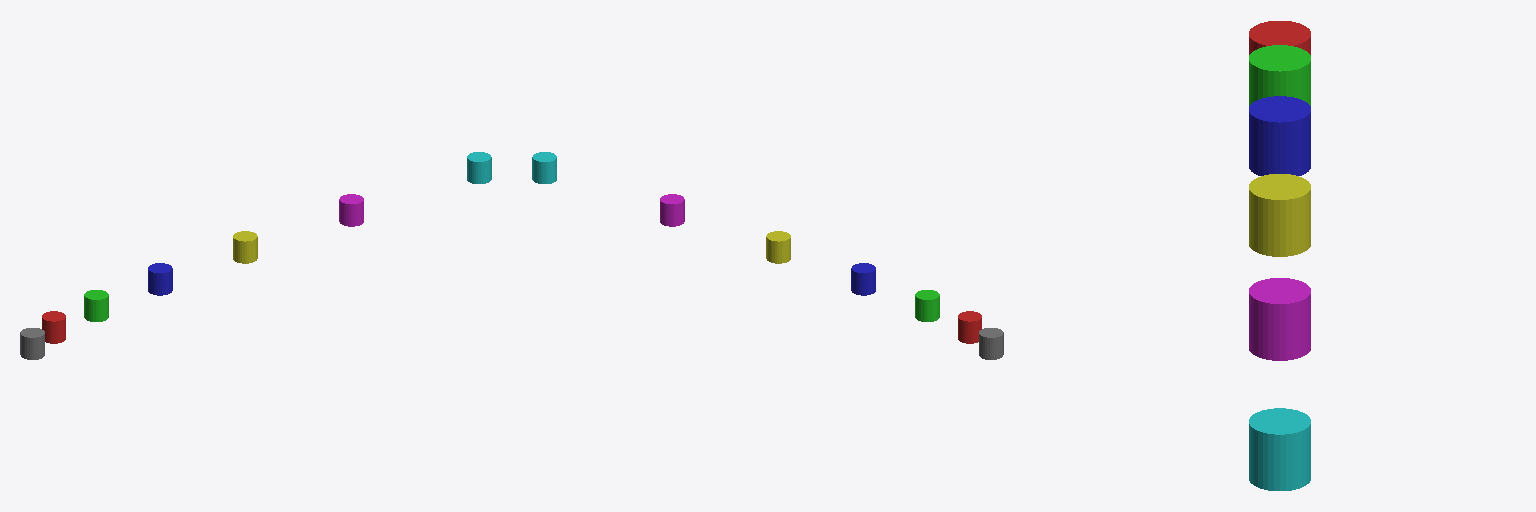
robot.urdf — so_100_arm:
<robot name="so_100_arm">
  <link name="base_link">
    <inertial>
      <origin xyz="0 0 0" rpy="0 0 0"/>
      <mass value="1"/>
      <inertia ixx="0.1" ixy="0" ixz="0" iyy="0.1" iyz="0" izz="0.1"/>
    </inertial>
    <visual>
      <origin xyz="0 0 0" rpy="0 0 0"/>
      <geometry>
        <cylinder radius="0.05" length="0.1"/>
      </geometry>
      <material>
        <color rgba="0.5 0.5 0.5 1"/> <!-- Grey for base -->
      </material>
    </visual>
    <collision>
      <origin xyz="0 0 0" rpy="0 0 0"/>
      <geometry>
        <cylinder radius="0.05" length="0.1"/>
      </geometry>
    </collision>
  </link>

  <link name="link_1">
    <inertial>
      <origin xyz="0 0 0" rpy="0 0 0"/>
      <mass value="1"/>
      <inertia ixx="0.1" ixy="0" ixz="0" iyy="0.1" iyz="0" izz="0.1"/>
    </inertial>
    <visual>
      <origin xyz="0 0 0" rpy="0 0 0"/>
      <geometry>
        <cylinder radius="0.05" length="0.1"/>
      </geometry>
      <material>
        <color rgba="0.8 0.2 0.2 1"/> <!-- Red for link_1 -->
      </material>
    </visual>
    <collision>
      <origin xyz="0 0 0" rpy="0 0 0"/>
      <geometry>
        <cylinder radius="0.05" length="0.1"/>
      </geometry>
    </collision>
  </link>
  <joint name="joint_0" type="revolute">
    <origin xyz="0.1 0 0.05" rpy="0 0 0"/>
    <parent link="base_link"/>
    <child link="link_1"/>
    <axis xyz="0 0 1"/>
    <limit lower="-1.57" upper="1.57" effort="10" velocity="1"/>
  </joint>

  <link name="link_2">
    <inertial>
      <origin xyz="0 0 0" rpy="0 0 0"/>
      <mass value="1"/>
      <inertia ixx="0.1" ixy="0" ixz="0" iyy="0.1" iyz="0" izz="0.1"/>
    </inertial>
    <visual>
      <origin xyz="0 0 0" rpy="0 0 0"/>
      <geometry>
        <cylinder radius="0.05" length="0.1"/>
      </geometry>
      <material>
        <color rgba="0.2 0.8 0.2 1"/> <!-- Green for link_2 -->
      </material>
    </visual>
    <collision>
      <origin xyz="0 0 0" rpy="0 0 0"/>
      <geometry>
        <cylinder radius="0.05" length="0.1"/>
      </geometry>
    </collision>
  </link>
  <joint name="joint_1" type="revolute">
    <origin xyz="0.2 0 0.05" rpy="0 0 0"/>
    <parent link="link_1"/>
    <child link="link_2"/>
    <axis xyz="0 0 1"/>
    <limit lower="-1.57" upper="1.57" effort="10" velocity="1"/>
  </joint>

  <link name="link_3">
    <inertial>
      <origin xyz="0 0 0" rpy="0 0 0"/>
      <mass value="1"/>
      <inertia ixx="0.1" ixy="0" ixz="0" iyy="0.1" iyz="0" izz="0.1"/>
    </inertial>
    <visual>
      <origin xyz="0 0 0" rpy="0 0 0"/>
      <geometry>
        <cylinder radius="0.05" length="0.1"/>
      </geometry>
      <material>
        <color rgba="0.2 0.2 0.8 1"/> <!-- Blue for link_3 -->
      </material>
    </visual>
    <collision>
      <origin xyz="0 0 0" rpy="0 0 0"/>
      <geometry>
        <cylinder radius="0.05" length="0.1"/>
      </geometry>
    </collision>
  </link>
  <joint name="joint_2" type="revolute">
    <origin xyz="0.3 0 0.05" rpy="0 0 0"/>
    <parent link="link_2"/>
    <child link="link_3"/>
    <axis xyz="0 0 1"/>
    <limit lower="-1.57" upper="1.57" effort="10" velocity="1"/>
  </joint>

  <link name="link_4">
    <inertial>
      <origin xyz="0 0 0" rpy="0 0 0"/>
      <mass value="1"/>
      <inertia ixx="0.1" ixy="0" ixz="0" iyy="0.1" iyz="0" izz="0.1"/>
    </inertial>
    <visual>
      <origin xyz="0 0 0" rpy="0 0 0"/>
      <geometry>
        <cylinder radius="0.05" length="0.1"/>
      </geometry>
      <material>
        <color rgba="0.8 0.8 0.2 1"/> <!-- Yellow for link_4 -->
      </material>
    </visual>
    <collision>
      <origin xyz="0 0 0" rpy="0 0 0"/>
      <geometry>
        <cylinder radius="0.05" length="0.1"/>
      </geometry>
    </collision>
  </link>
  <joint name="joint_3" type="revolute">
    <origin xyz="0.4 0 0.05" rpy="0 0 0"/>
    <parent link="link_3"/>
    <child link="link_4"/>
    <axis xyz="0 0 1"/>
    <limit lower="-1.57" upper="1.57" effort="10" velocity="1"/>
  </joint>

  <link name="link_5">
    <inertial>
      <origin xyz="0 0 0" rpy="0 0 0"/>
      <mass value="1"/>
      <inertia ixx="0.1" ixy="0" ixz="0" iyy="0.1" iyz="0" izz="0.1"/>
    </inertial>
    <visual>
      <origin xyz="0 0 0" rpy="0 0 0"/>
      <geometry>
        <cylinder radius="0.05" length="0.1"/>
      </geometry>
      <material>
        <color rgba="0.8 0.2 0.8 1"/> <!-- Purple for link_5 -->
      </material>
    </visual>
    <collision>
      <origin xyz="0 0 0" rpy="0 0 0"/>
      <geometry>
        <cylinder radius="0.05" length="0.1"/>
      </geometry>
    </collision>
  </link>
  <joint name="joint_4" type="revolute">
    <origin xyz="0.5 0 0.05" rpy="0 0 0"/>
    <parent link="link_4"/>
    <child link="link_5"/>
    <axis xyz="0 0 1"/>
    <limit lower="-1.57" upper="1.57" effort="10" velocity="1"/>
  </joint>

  <link name="link_6">
    <inertial>
      <origin xyz="0 0 0" rpy="0 0 0"/>
      <mass value="1"/>
      <inertia ixx="0.1" ixy="0" ixz="0" iyy="0.1" iyz="0" izz="0.1"/>
    </inertial>
    <visual>
      <origin xyz="0 0 0" rpy="0 0 0"/>
      <geometry>
        <cylinder radius="0.05" length="0.1"/>
      </geometry>
      <material>
        <color rgba="0.2 0.8 0.8 1"/> <!-- Cyan for link_6 -->
      </material>
    </visual>
    <collision>
      <origin xyz="0 0 0" rpy="0 0 0"/>
      <geometry>
        <cylinder radius="0.05" length="0.1"/>
      </geometry>
    </collision>
  </link>
  <joint name="joint_5" type="revolute">
    <origin xyz="0.6 0 0.05" rpy="0 0 0"/>
    <parent link="link_5"/>
    <child link="link_6"/>
    <axis xyz="0 0 1"/>
    <limit lower="-1.57" upper="1.57" effort="10" velocity="1"/>
  </joint>
</robot>

--- Facts derived from the render (not from the file) ---
3 views of the same robot in one strip: view 1: azimuth 30°, elevation 25°; view 2: azimuth 150°, elevation 25°; view 3: azimuth 270°, elevation 25° (orthographic).
Model so_100_arm with 7 links and 6 joints (6 revolute), rooted at base_link, posed all joints at 0.
Links seen in each view (by area): view 1: link_4, link_5, link_3, base_link, link_2, link_6, link_1; view 2: link_4, link_5, link_3, base_link, link_2, link_6, link_1; view 3: link_4, link_6, link_5, link_3, link_2, link_1.
Link boxes in pixels (box(x1,y1,x2,y2)): link_4: box(233, 231, 257, 263); link_5: box(339, 194, 363, 226); link_3: box(148, 263, 172, 295); base_link: box(20, 328, 44, 359); link_2: box(84, 290, 108, 321); link_6: box(467, 152, 491, 183); link_1: box(42, 311, 65, 343); link_4: box(766, 231, 790, 263); link_5: box(660, 194, 684, 226); link_3: box(851, 263, 875, 295); base_link: box(979, 328, 1003, 359); link_2: box(915, 290, 939, 321); link_6: box(532, 152, 556, 183); link_1: box(958, 311, 981, 343); link_4: box(1249, 174, 1310, 256); link_6: box(1249, 408, 1310, 490); link_5: box(1249, 278, 1310, 360); link_3: box(1249, 96, 1310, 175); link_2: box(1249, 45, 1310, 105); link_1: box(1249, 21, 1310, 54).
Bounding box of the posed robot: 2.2 × 0.1 × 0.4 m (x, y, z).
Geometry: primitives only (box / cylinder / sphere), no mesh files.